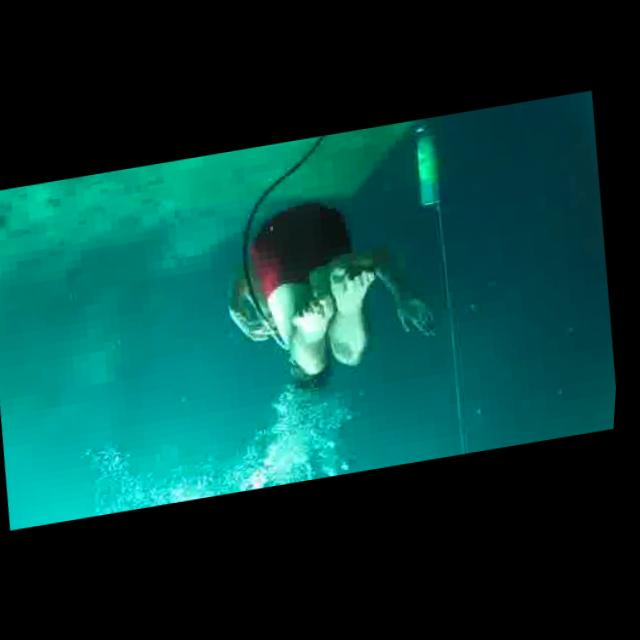human: (210, 182, 452, 406)
